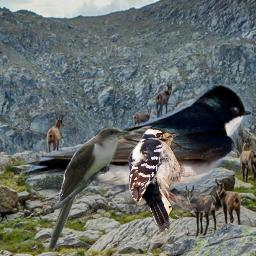Cuckoo: (45, 125, 131, 254)
Swallow: (21, 84, 252, 212)
Woodpecker: (125, 126, 195, 232)
